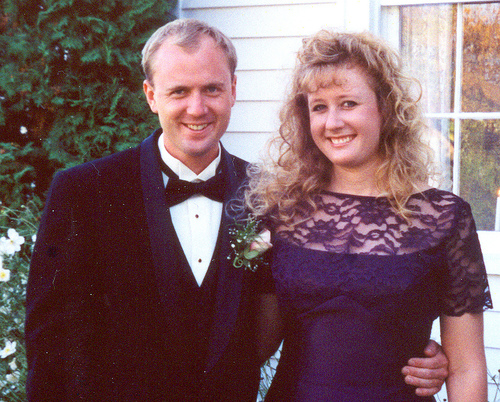without_mask: (286, 51, 405, 178), (135, 21, 246, 157)
